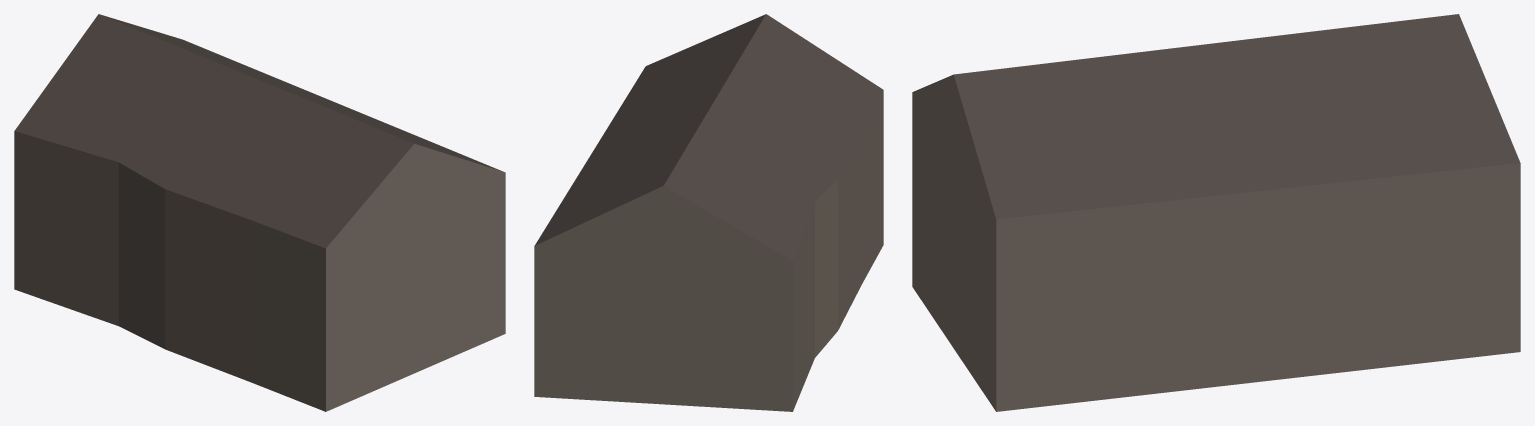
3 renders of one model, left to right at view 1: azimuth 30°, elevation 25°; view 2: azimuth 150°, elevation 25°; view 3: azimuth 270°, elevation 25°, orthographic. The views are drawn at different scales.
Visible parts, largest first — view 1: HP-w1198847845; view 2: HP-w1198847845; view 3: HP-w1198847845.
Boxes of the visible parts, box(x1,y1,x2,y2) form: HP-w1198847845: box(14, 14, 505, 411); HP-w1198847845: box(534, 14, 883, 411); HP-w1198847845: box(912, 14, 1520, 411).
Bounding box in the file's own units: 19.18 × 13.05 × 26.23.
